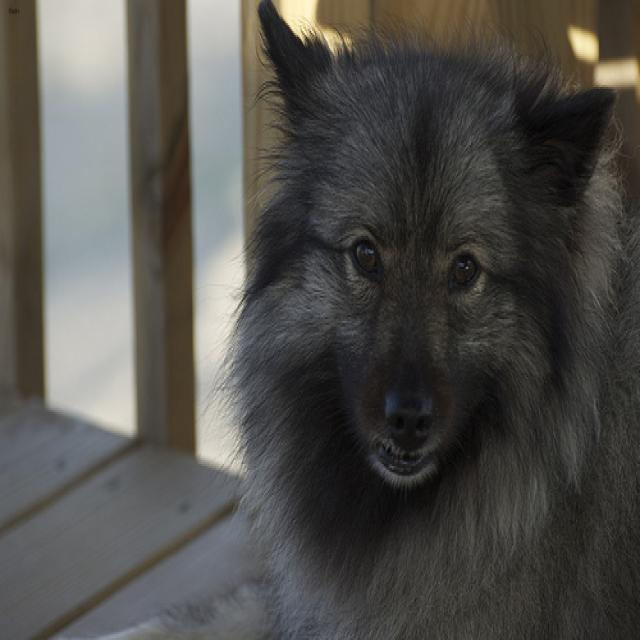dog-keeshond: (90, 2, 637, 636)
